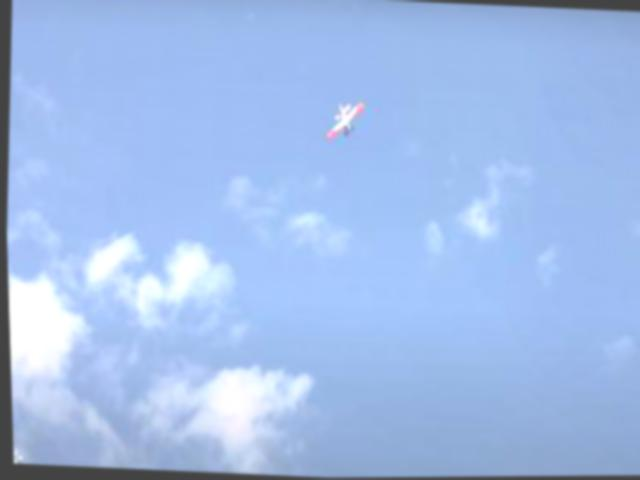uav: (324, 95, 364, 144)
